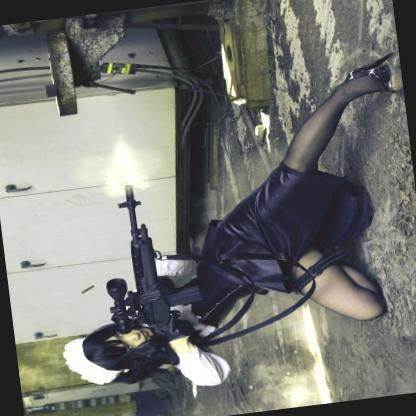rifle: (100, 172, 203, 362)
